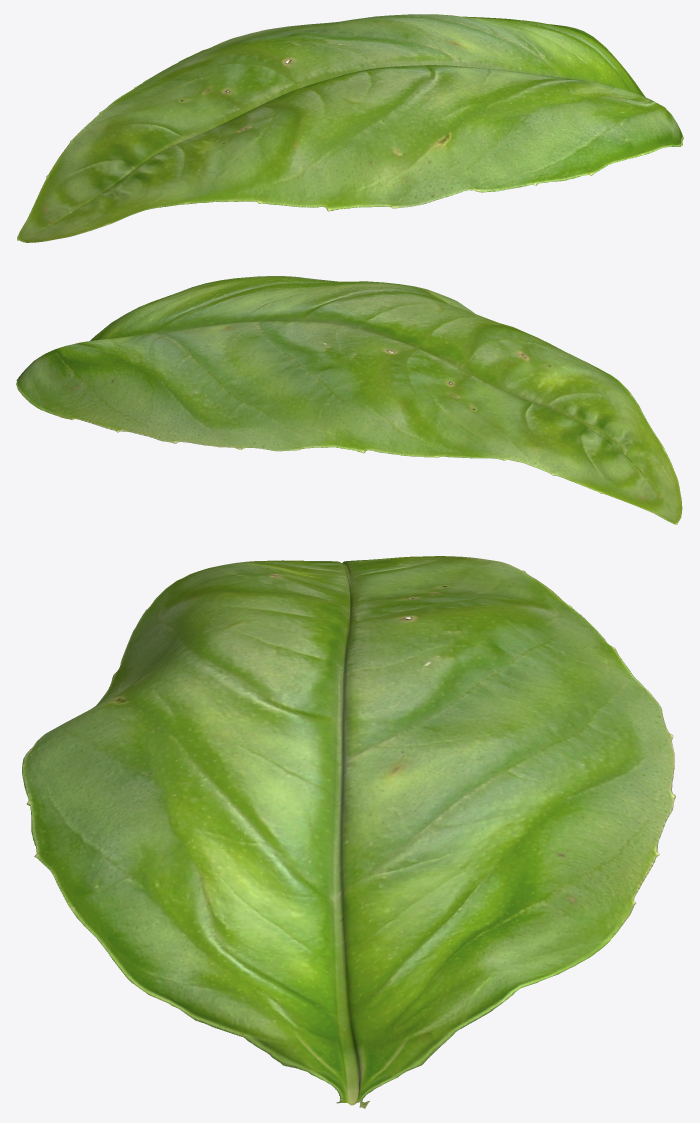
Rendered from BasilT.fbx.
3 views of the same model, one above another, from view 1: azimuth 30°, elevation 25°; view 2: azimuth 150°, elevation 25°; view 3: azimuth 270°, elevation 25° (orthographic). The views are drawn at different scales.
Visible parts, largest first — view 1: basil; view 2: basil; view 3: basil.
Part boxes in pixels (left/top/right/bottom): basil: left=17, top=14, right=683, bottom=242; basil: left=16, top=276, right=682, bottom=524; basil: left=22, top=556, right=675, bottom=1108.
Bounding box in the file's own units: 17.68 × 3.83 × 10.46.
1 material, 1 textured.
